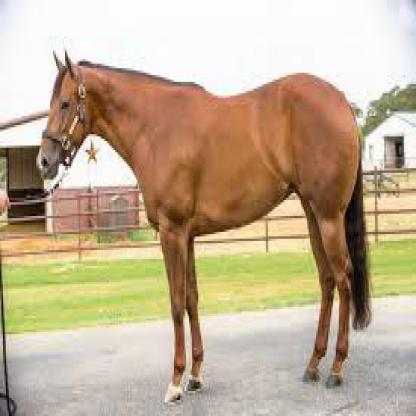horse: (33, 43, 368, 396)
